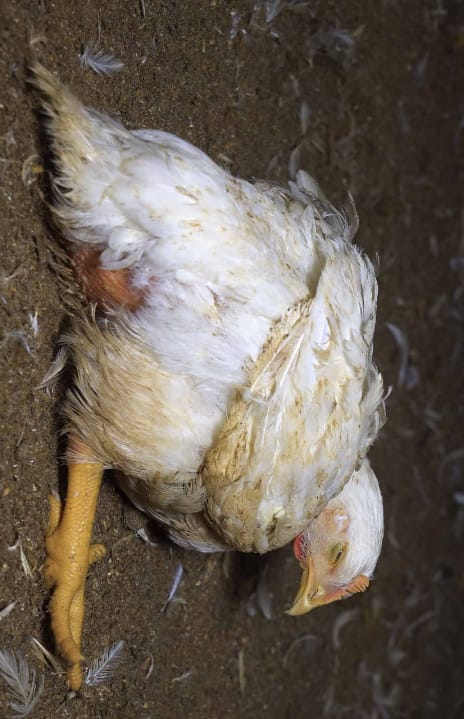Unhealthy: (16, 43, 393, 693)
